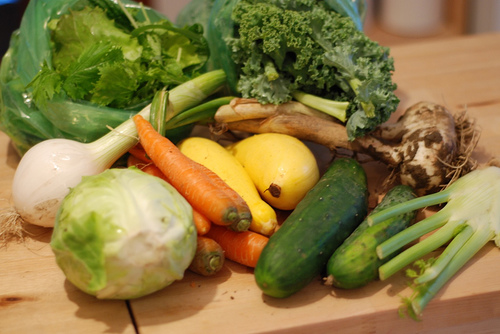cabbage: (47, 167, 200, 302)
